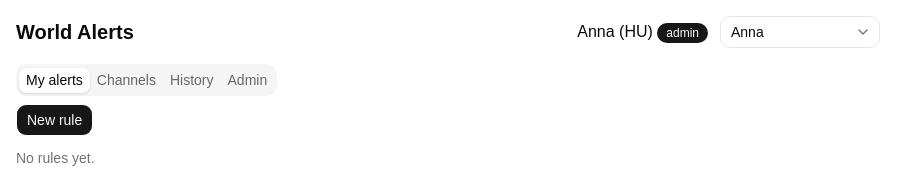
Test: AppShell › lists the 3 users in the switcher and switching user re-fetches /me
Expected: the tab "Admin" is shown, [220, 68, 274, 92]
Press the mouse on the dropdown: x=800, y=32 [720, 16, 880, 48]
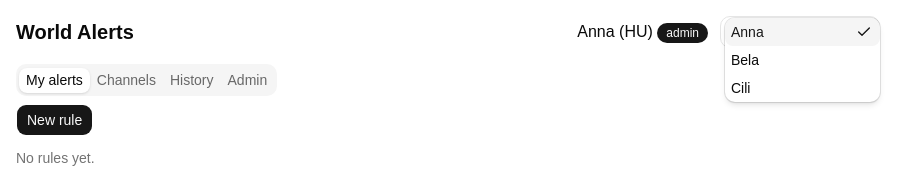
Expected: the options read "Anna", "Bela", "Cili", in this order
Click the option "Bela": x=745, y=60 [731, 52, 759, 68]
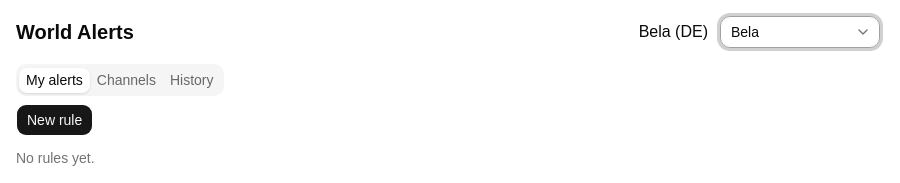
Expected: the icon "admin" is gone
Expected: the text "Bela (DE)" is shown, [639, 20, 708, 44]
